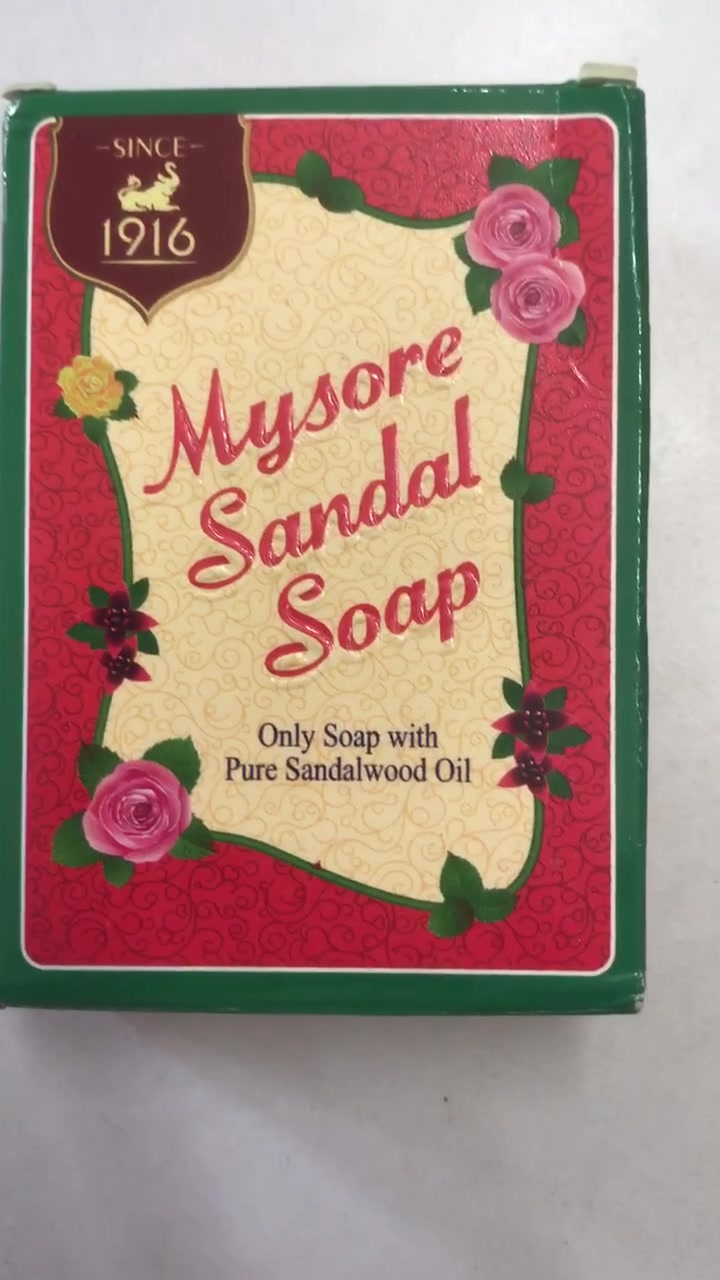mysore sandal soap: (13, 114, 628, 987)
